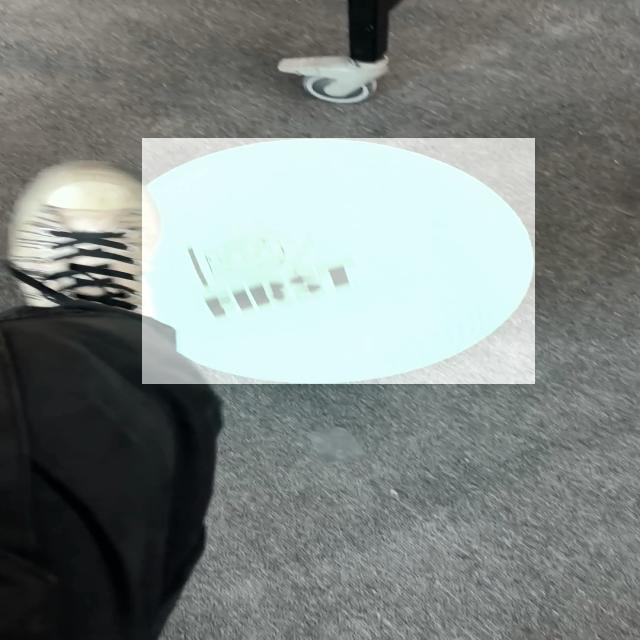Algae: (142, 138, 535, 384)
